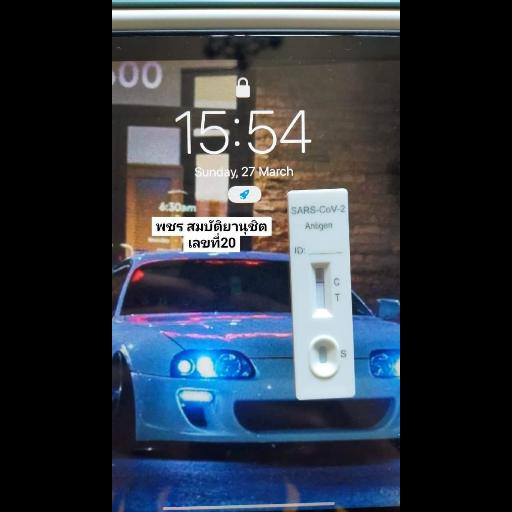Neg: (289, 189, 355, 400)
